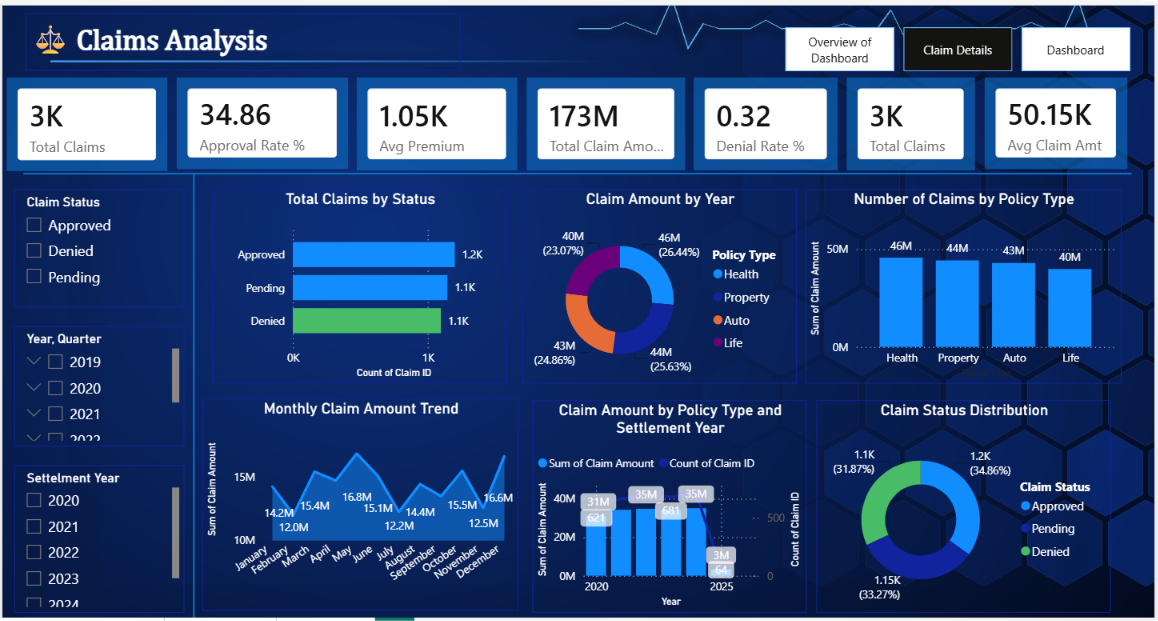

The dashboard page shown, as its layout file describes it:
{"tool":"powerbi","page":{"name":"Claim Details","canvas":[1280,720],"ordinal":1},"visuals":[{"type":"cardVisual","fields":{"Data":["Claims.Total Claims"]},"box":[0,100,188.6,114.3],"z":0},{"type":"cardVisual","fields":{"Data":["Claims.Total avg premimum amt"]},"box":[388.8,100,188.8,113.8],"z":1000},{"type":"cardVisual","fields":{"Data":["Claims.Total Claim Amount"]},"box":[577.5,100,186.2,113.8],"z":2000},{"type":"cardVisual","fields":{"Data":["Claims.Denial Rate %"]},"box":[763.8,100,170,113.8],"z":3000},{"type":"cardVisual","fields":{"Data":["Claims.Total Claims"]},"box":[933.8,100,152.5,113.8],"z":4000},{"type":"clusteredBarChart","title":"Total Claims by Status","fields":{"Category":["Claims.Claim Status"],"Y":["CountNonNull(Claims.Claim ID)"]},"box":[233.8,228.8,327.5,216.2],"z":5000},{"type":"slicer","fields":{"Values":["Claims.Claim Status"]},"box":[13.8,228.8,188.8,131.2],"z":6000},{"type":"shape","box":[23.8,202.5,1231.2,18.8],"z":7000},{"type":"shape","box":[173.8,212.5,78.8,498.8],"z":8000},{"type":"slicer","fields":{"Values":["Claims.Date of Claim.Variation.Date Hierarchy.Year","Claims.Date of Claim.Variation.Date Hierarchy.Quarter"]},"box":[13.8,381.2,188.8,133.8],"z":9000},{"type":"clusteredColumnChart","title":"Number of Claims by Policy Type","fields":{"Category":["Policy_details.Policy Type"],"Y":["Sum(Claims.Claim Amount)"]},"box":[892.5,228.8,351.2,216.2],"z":10000},{"type":"donutChart","title":"Claim Status Distribution","fields":{"Category":["Claims.Claim Status"],"Y":["CountNonNull(Claims.Claim ID)"]},"box":[904.7,462.8,327.5,236.2],"z":11000},{"type":"stackedAreaChart","title":"Monthly Claim Amount Trend","fields":{"Category":["Policy_details.Policy Start Date.Variation.Date Hierarchy.Month"],"Y":["Sum(Claims.Claim Amount)"]},"box":[222.1,461.6,351.2,236.2],"z":12000},{"type":"donutChart","title":"Claim Amount by Year","fields":{"Category":["Policy_details.Policy Type"],"Y":["Sum(Claims.Claim Amount)"]},"box":[577.5,228.8,305,216.2],"z":13000},{"type":"slicer","fields":{"Values":["Claims.Settlement Date.Variation.Date Hierarchy.Year"]},"box":[13.8,535,188.8,163.8],"z":14000},{"type":"cardVisual","fields":{"Data":["Claims.Approval Rate %"]},"box":[188.8,100,200,111.2],"z":15000},{"type":"cardVisual","fields":{"Data":["Claims.Avg Claim Amount"]},"box":[1086.2,100,168.8,111.2],"z":16000},{"type":"lineClusteredColumnComboChart","title":"Claim Amount by Policy Type and Settlement Year","fields":{"Category":["Claims.Settlement Date.Variation.Date Hierarchy.Year"],"Y":["Sum(Claims.Claim Amount)"],"Y2":["CountNonNull(Claims.Claim ID)"]},"box":[588.4,462.8,305,236],"z":17000},{"type":"textbox","box":[26,33.9,483.3,64.4],"z":17001},{"type":"pageNavigator","box":[871.7,33.9,385,49.7],"z":17002}]}

Visuals, with their boxes on the page's 1280x720 design canvas (x1, y1, x2, y2). These are canvas units, not pixel positions in the 1158x621 screenshot, which may show the page scaled, cropped or inside an application window:
cardVisual - Claims.Total Claims: <box>0,100,189,214</box>
cardVisual - Claims.Total avg premimum amt: <box>389,100,578,214</box>
cardVisual - Claims.Total Claim Amount: <box>578,100,764,214</box>
cardVisual - Claims.Denial Rate %: <box>764,100,934,214</box>
cardVisual - Claims.Total Claims: <box>934,100,1086,214</box>
"Total Claims by Status" clusteredBarChart: <box>234,229,561,445</box>
slicer - Claims.Claim Status: <box>14,229,203,360</box>
shape: <box>24,202,1255,221</box>
shape: <box>174,212,253,711</box>
slicer - Claims.Date of Claim.Variation.Date Hierarchy.Year x Claims.Date of Claim.Variation.Date Hierarchy.Quarter: <box>14,381,203,515</box>
"Number of Claims by Policy Type" clusteredColumnChart: <box>892,229,1244,445</box>
"Claim Status Distribution" donutChart: <box>905,463,1232,699</box>
"Monthly Claim Amount Trend" stackedAreaChart: <box>222,462,573,698</box>
"Claim Amount by Year" donutChart: <box>578,229,882,445</box>
slicer - Claims.Settlement Date.Variation.Date Hierarchy.Year: <box>14,535,203,699</box>
cardVisual - Claims.Approval Rate %: <box>189,100,389,211</box>
cardVisual - Claims.Avg Claim Amount: <box>1086,100,1255,211</box>
"Claim Amount by Policy Type and Settlement Year" lineClusteredColumnComboChart: <box>588,463,893,699</box>
textbox: <box>26,34,509,98</box>
pageNavigator: <box>872,34,1257,84</box>
